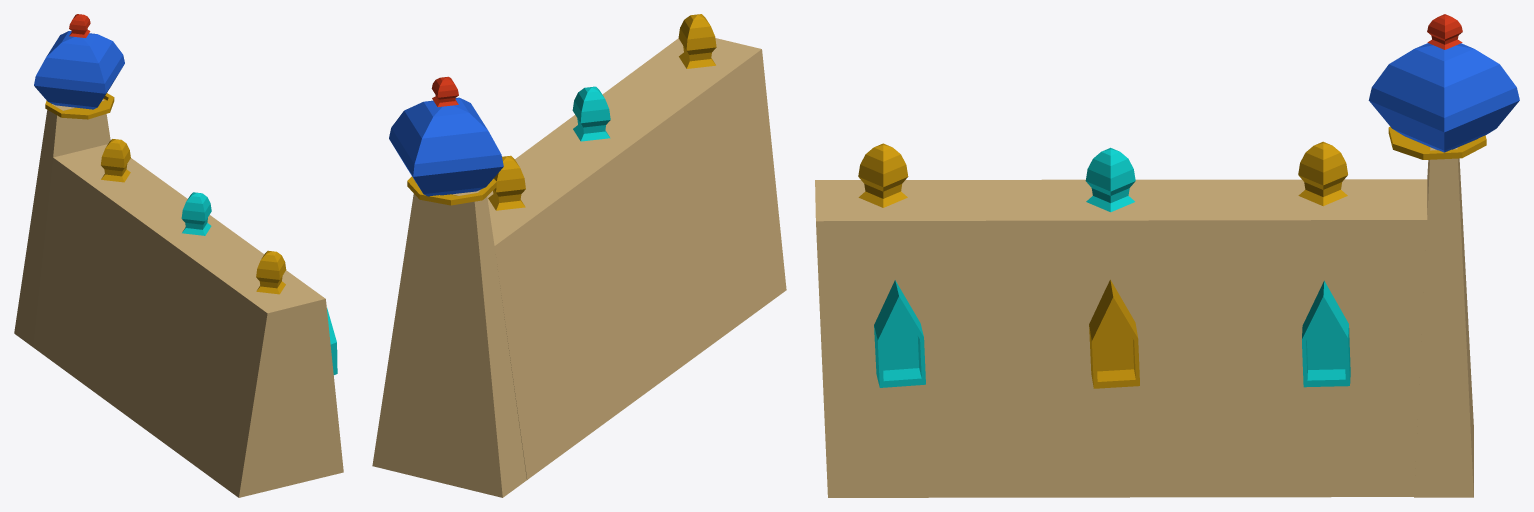
The model's file is Wall.fbx.
The picture shows the model from 3 angles, left to right: view 1: azimuth 30°, elevation 25°; view 2: azimuth 150°, elevation 25°; view 3: azimuth 270°, elevation 25°; orthographic projection. The views are drawn at different scales.
Parts seen in each view (by area): view 1: Wall, Join, WallTop, WallLilTop1, WallLilTop1.001, WallLilTop1.002, Connection, LilTop; view 2: Wall, Join, WallTop, WallLilTop1, WallLilTop1.002, WallLilTop1.001, Connection, LilTop; view 3: Wall, Join, WallTop, Balcony2, Balcony1, Balcony3, WallLilTop1, WallLilTop1.002, WallLilTop1.001, Connection, LilTop.
Boxes of the visible parts, x1,y1,x2,y2 form: Wall: (33, 144, 343, 497); Join: (14, 99, 110, 346); WallTop: (34, 31, 124, 109); WallLilTop1: (181, 192, 211, 235); WallLilTop1.001: (101, 139, 130, 182); WallLilTop1.002: (256, 250, 286, 294); Connection: (45, 93, 114, 119); LilTop: (69, 14, 90, 37); Wall: (487, 38, 786, 479); Join: (372, 189, 526, 497); WallTop: (389, 97, 503, 196); WallLilTop1: (572, 86, 610, 141); WallLilTop1.002: (678, 14, 716, 68); WallLilTop1.001: (488, 155, 525, 210); Connection: (407, 176, 496, 205); LilTop: (431, 76, 458, 106); Wall: (815, 179, 1427, 497); Join: (1414, 147, 1473, 497); WallTop: (1368, 43, 1519, 152); Balcony2: (1089, 279, 1139, 388); Balcony1: (874, 280, 925, 387); Balcony3: (1302, 280, 1350, 387); WallLilTop1: (1085, 147, 1135, 212); WallLilTop1.002: (858, 143, 908, 207); WallLilTop1.001: (1298, 141, 1347, 206); Connection: (1388, 126, 1486, 159); LilTop: (1427, 14, 1462, 49).
Bounding box in the file's own units: 136 × 343 × 489.
